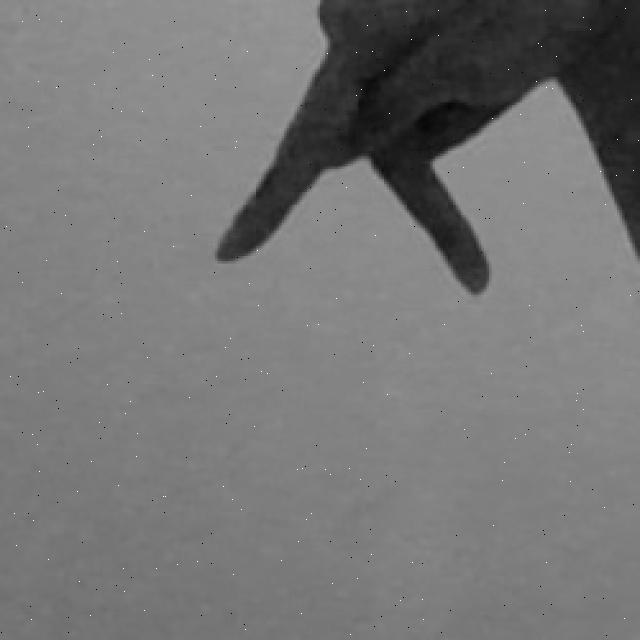P: (202, 0, 640, 305)
